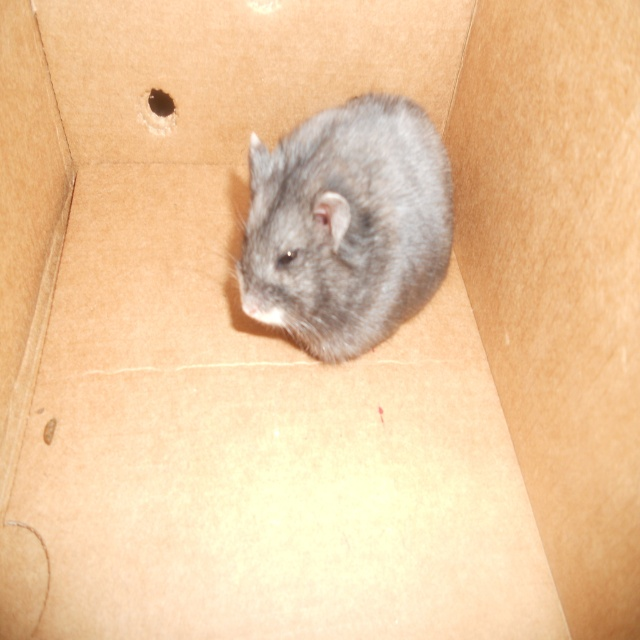Mouse: (224, 92, 455, 363)
